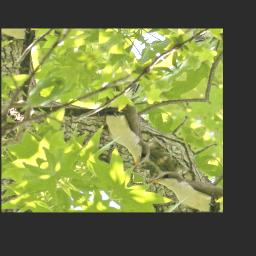Cuckoo: (74, 74, 190, 173)
